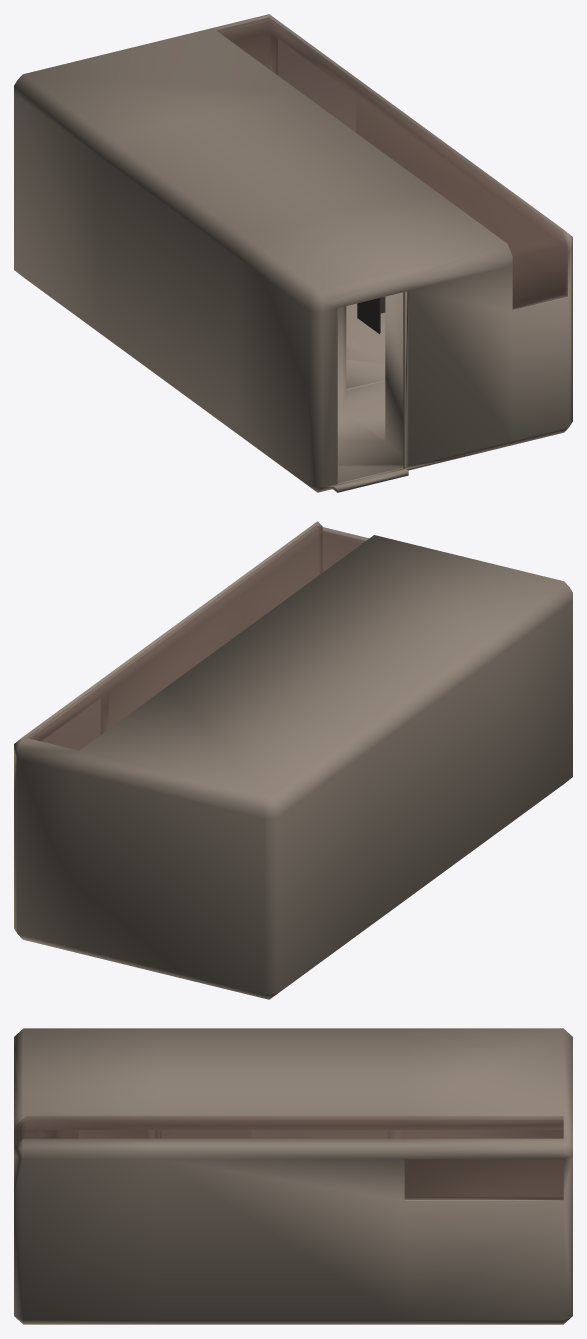
The model's file is conteneur.glb.
3 renders of one model, top to bottom at view 1: azimuth 30°, elevation 25°; view 2: azimuth 150°, elevation 25°; view 3: azimuth 270°, elevation 25°, orthographic. The views are drawn at different scales.
Visible parts, largest first — view 1: apartment_root, window_roof, window_bedroom, floor; view 2: apartment_root, window_roof, window_bedroom; view 3: apartment_root, window_roof, window_bedroom, wall_divider, wardrobe.
Boxes of the visible parts, x1=… form: apartment_root: x1=14, y1=14, x2=572, y2=492; window_roof: x1=216, y1=17, x2=567, y2=309; window_bedroom: x1=275, y1=37, x2=355, y2=131; floor: x1=357, y1=296, x2=385, y2=333; apartment_root: x1=14, y1=521, x2=572, y2=999; window_roof: x1=26, y1=525, x2=368, y2=750; window_bedroom: x1=42, y1=696, x2=103, y2=749; apartment_root: x1=14, y1=1028, x2=572, y2=1324; window_roof: x1=16, y1=1116, x2=563, y2=1143; window_bedroom: x1=404, y1=1159, x2=563, y2=1199; wall_divider: x1=405, y1=1159, x2=563, y2=1196; wardrobe: x1=163, y1=1130, x2=249, y2=1138.
Size of the model in its own units: 3 by 2.2 by 6.
